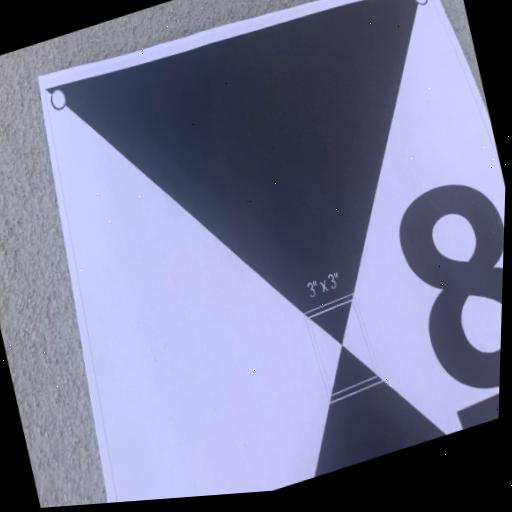target8: (37, 0, 505, 503)
